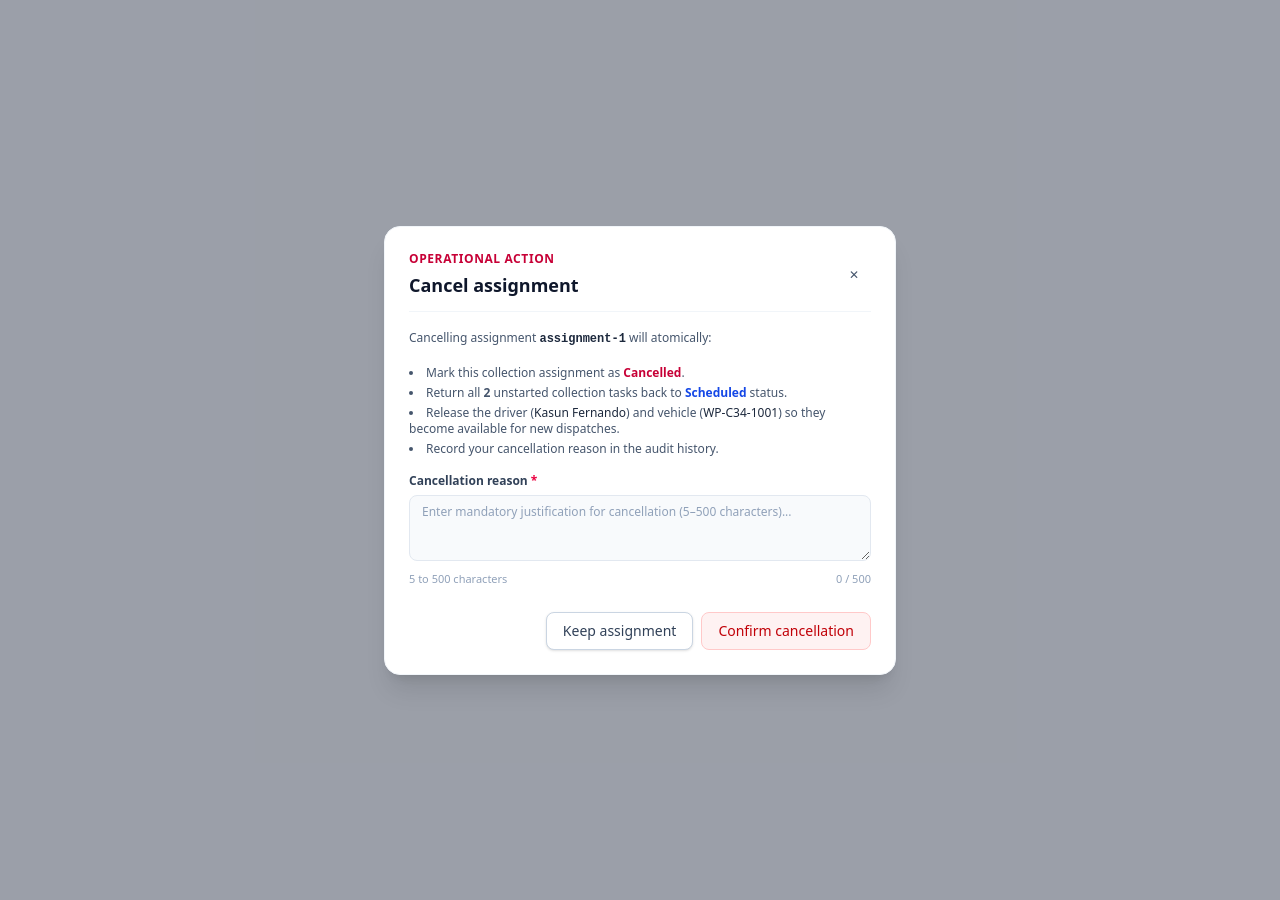
AssignmentCancelDialog › enforces 5-character minimum cancellation justification
This screenshot has width=1280, height=900.
// Empty click
Click the button "Confirm cancellation".
click(786, 630)  # box [701,612,871,650]
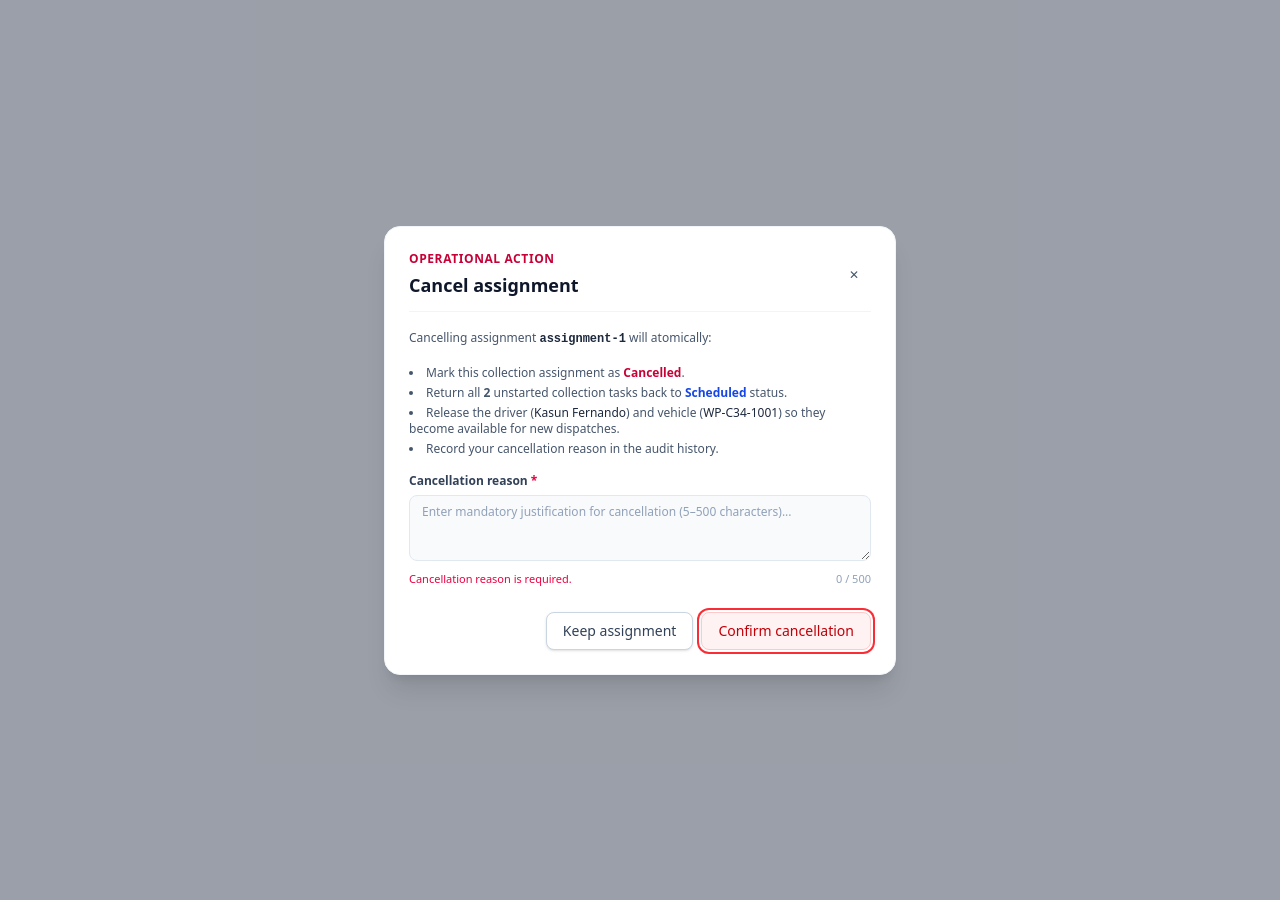
Expected: the text "Cancellation reason is required." is shown, [409,571,572,586]
// Less than 5 characters
Type "bad" into the text box labelled "Cancellation reason *".
click(640, 528); type("bad")  # box [409,495,871,561]
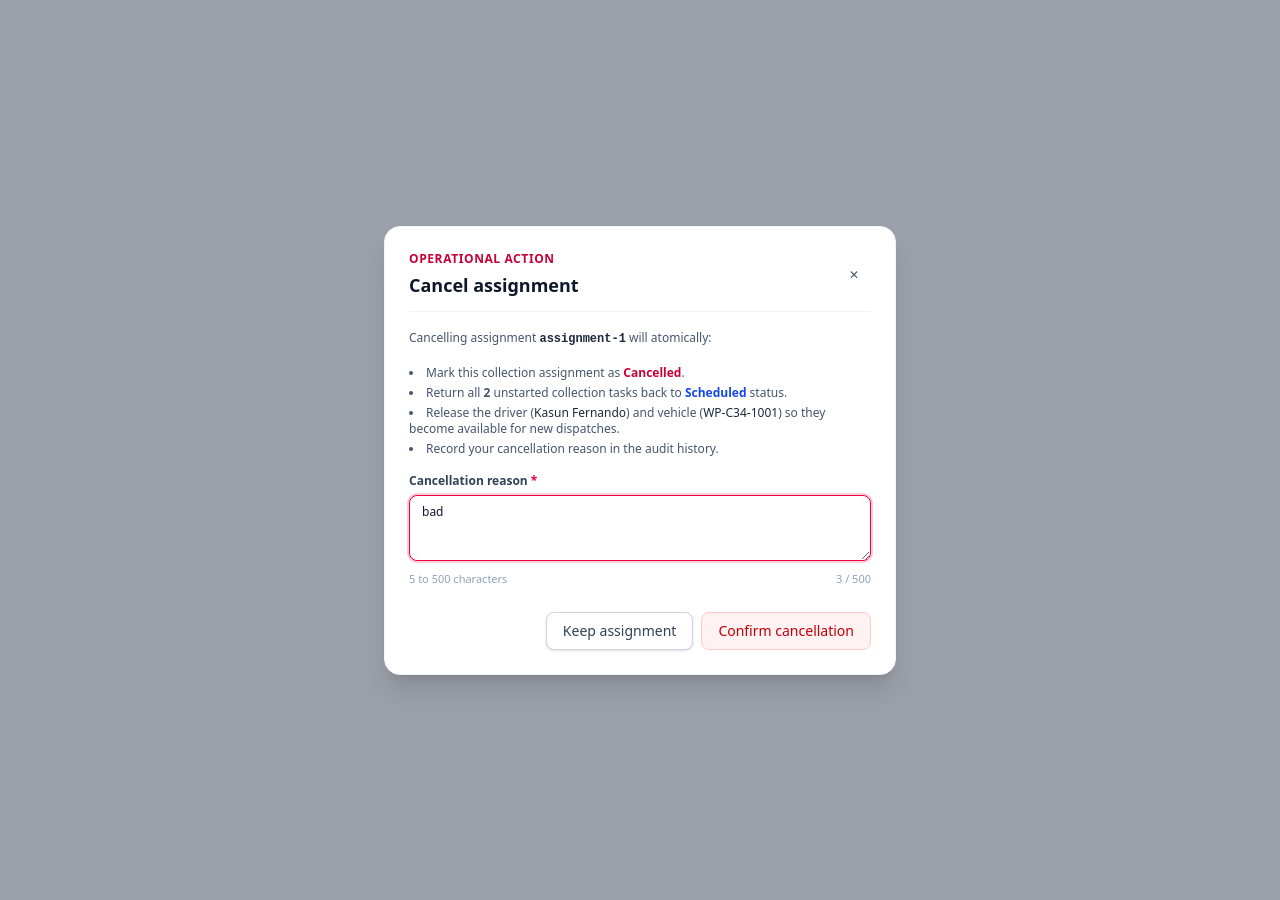
Click the button "Confirm cancellation".
click(786, 630)  # box [701,612,871,650]
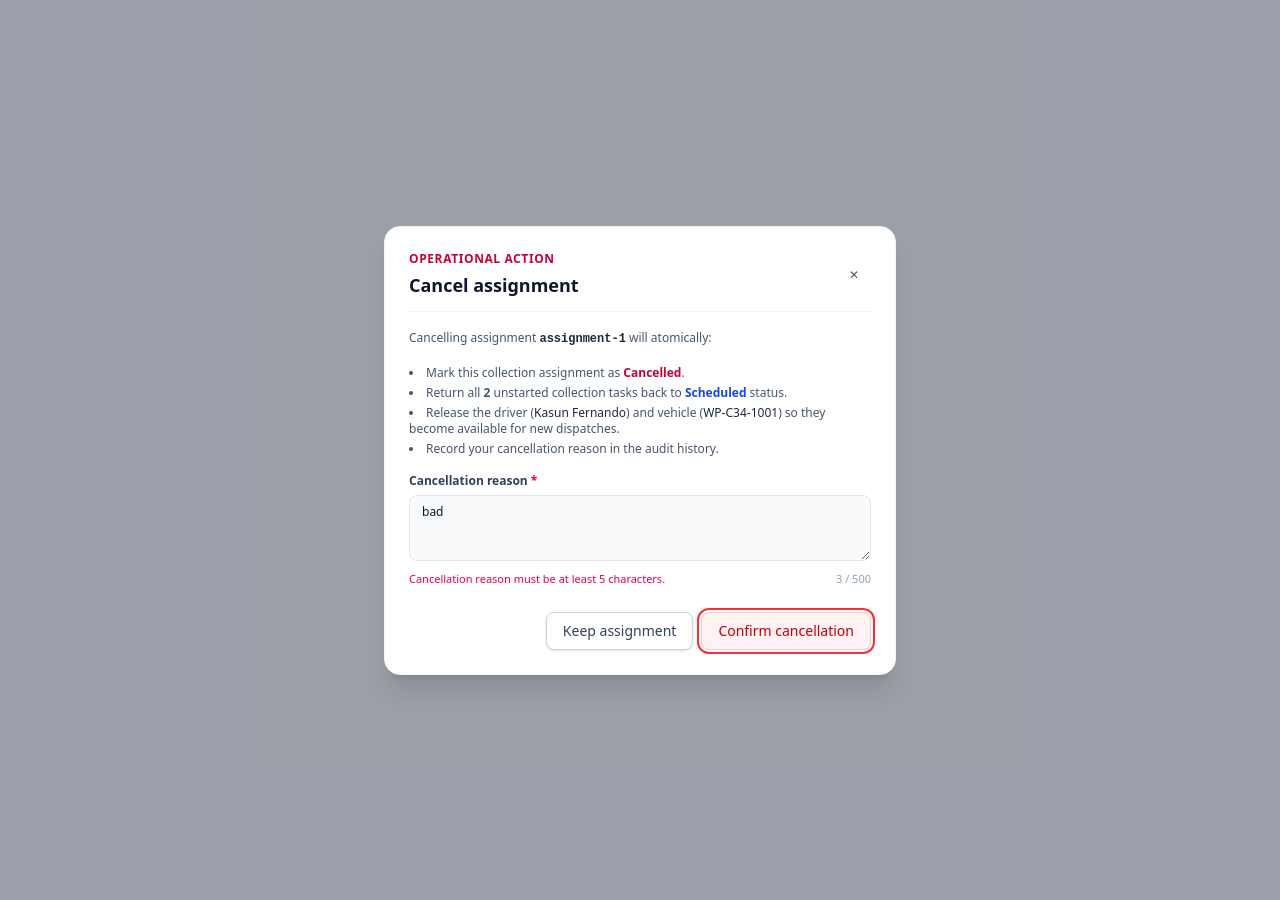
Expected: the text "Cancellation reason must be at least 5 characters." is shown, [409,571,665,586]
